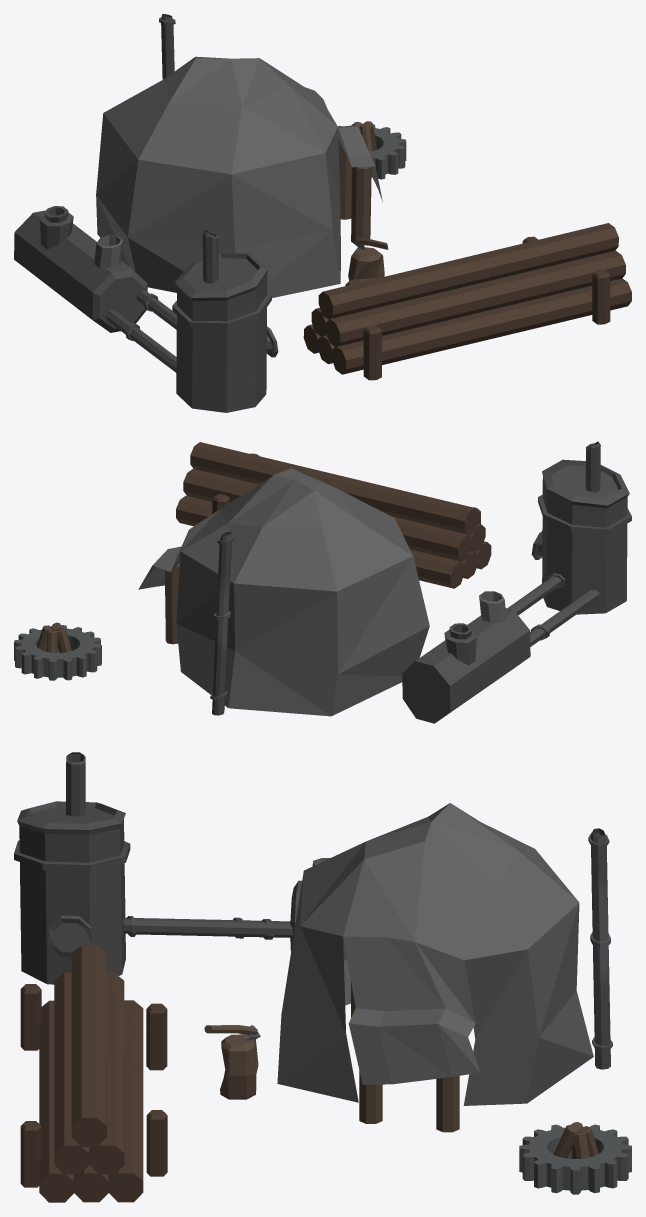
Rendered from bucheron.fbx.
3 views of the same model, one above another, from view 1: azimuth 30°, elevation 25°; view 2: azimuth 150°, elevation 25°; view 3: azimuth 270°, elevation 25° (orthographic). The views are drawn at different scales.
Visible parts, largest first — view 1: pasted__pasted__pPlane62; view 2: pasted__pasted__pPlane62; view 3: pasted__pasted__pPlane62.
Boxes of the visible parts, x1,y1,x2,y2 form: pasted__pasted__pPlane62: [14, 14, 631, 412]; pasted__pasted__pPlane62: [14, 441, 631, 723]; pasted__pasted__pPlane62: [14, 752, 631, 1202].
Size of the model in its own units: 23.24 by 9.94 by 23.15.
